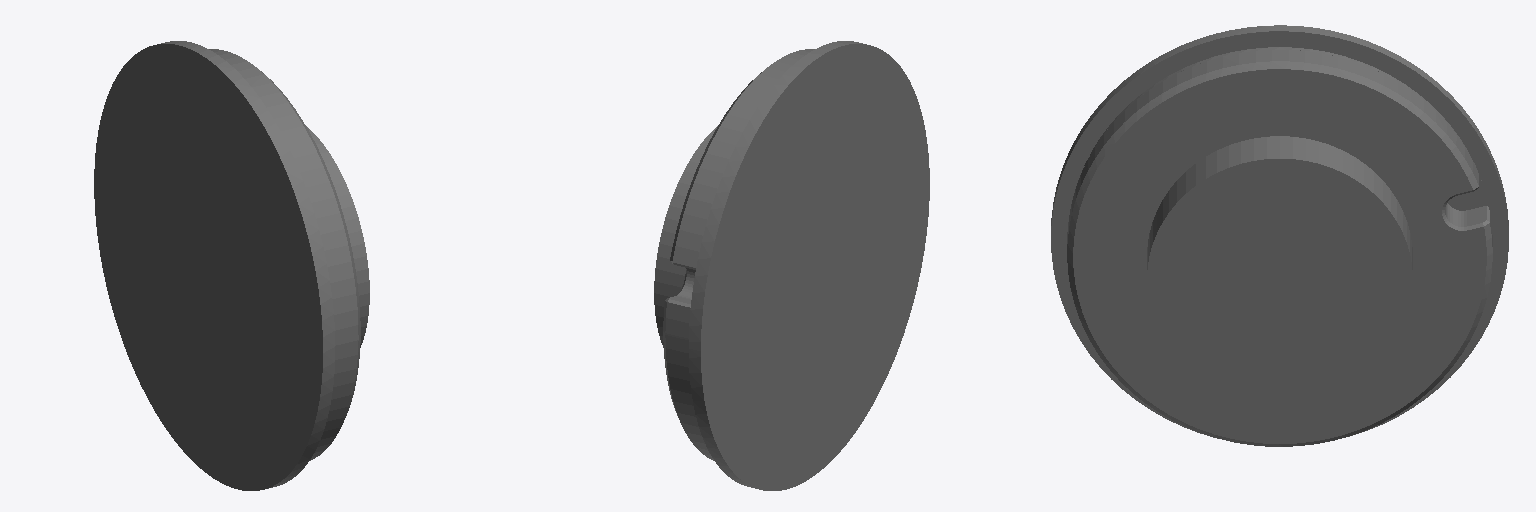
3 renders of one model, left to right at view 1: azimuth 30°, elevation 25°; view 2: azimuth 150°, elevation 25°; view 3: azimuth 270°, elevation 25°, orthographic.
Visible parts, largest first — view 1: L0700_Wrist2_CMZ05-01_00\ﾊﾟｰﾂ ﾎﾞﾃﾞｨｰ; view 2: L0700_Wrist2_CMZ05-01_00\ﾊﾟｰﾂ ﾎﾞﾃﾞｨｰ; view 3: L0700_Wrist2_CMZ05-01_00\ﾊﾟｰﾂ ﾎﾞﾃﾞｨｰ.
Part boxes in pixels (bbox=[...]): L0700_Wrist2_CMZ05-01_00\ﾊﾟｰﾂ ﾎﾞﾃﾞｨｰ: bbox=[94, 41, 369, 490]; L0700_Wrist2_CMZ05-01_00\ﾊﾟｰﾂ ﾎﾞﾃﾞｨｰ: bbox=[654, 41, 929, 490]; L0700_Wrist2_CMZ05-01_00\ﾊﾟｰﾂ ﾎﾞﾃﾞｨｰ: bbox=[1051, 25, 1508, 446].
Size of the model in its own units: 0.0185 by 0.0775 by 0.0775.